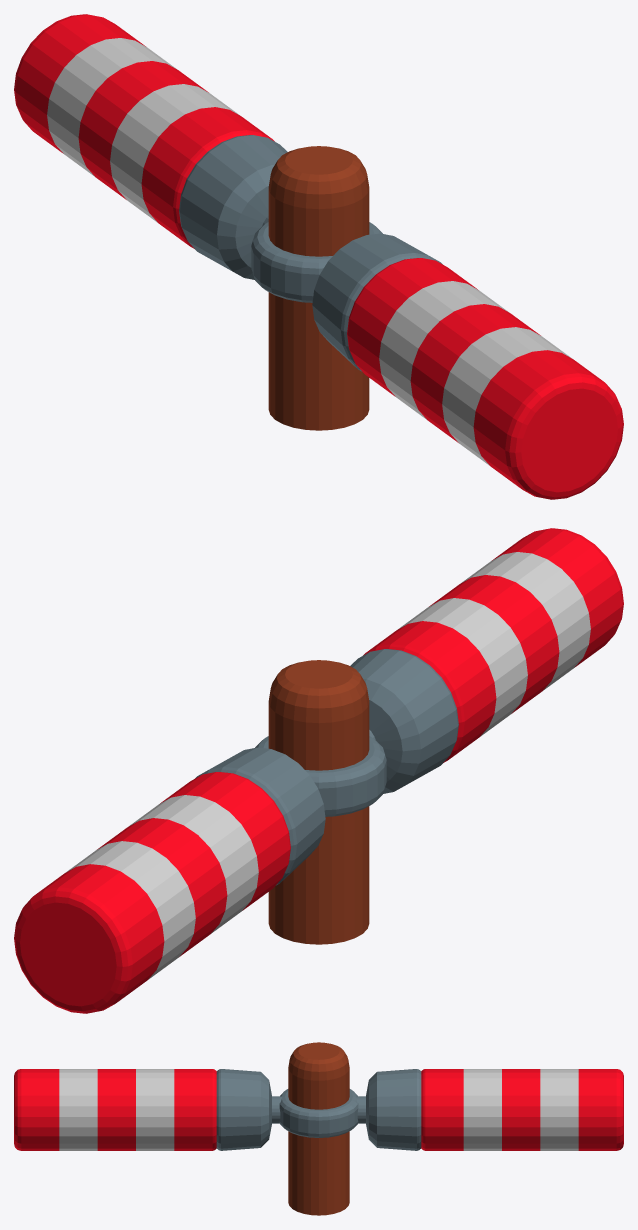
File: swiperDouble_teamRed.obj
3 views of the same model, one above another, from view 1: azimuth 30°, elevation 25°; view 2: azimuth 150°, elevation 25°; view 3: azimuth 270°, elevation 25° (orthographic). The views are drawn at different scales.
Parts seen in each view (by area): view 1: swiperDouble_teamRed_Cylinder.037; view 2: swiperDouble_teamRed_Cylinder.037; view 3: swiperDouble_teamRed_Cylinder.037.
Boxes of the visible parts, x1,y1,x2,y2 form: swiperDouble_teamRed_Cylinder.037: (14,14,623,499); swiperDouble_teamRed_Cylinder.037: (14,528,623,1013); swiperDouble_teamRed_Cylinder.037: (14,1042,623,1215).
Bounding box in the file's own units: 0.8059 × 1.63 × 5.96.
